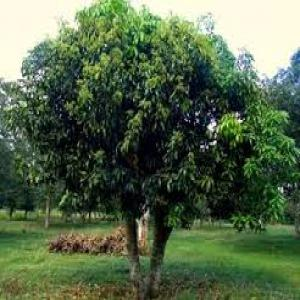Tree: (20, 2, 292, 298)
